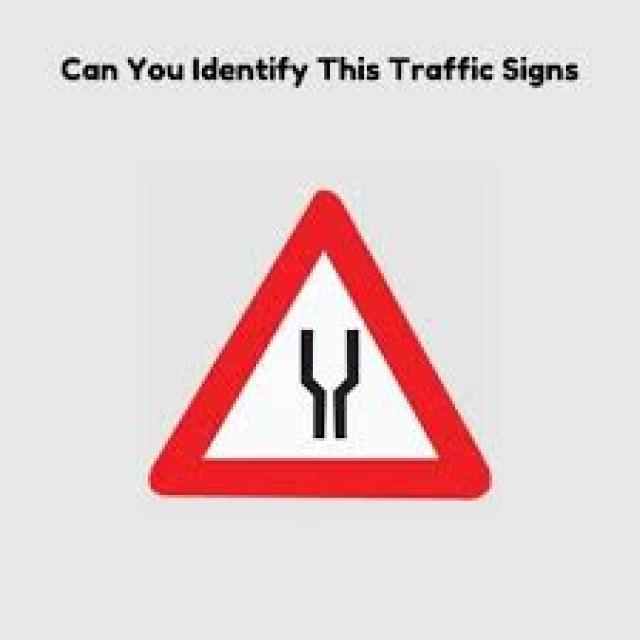road widens ahead: (146, 188, 493, 498)
